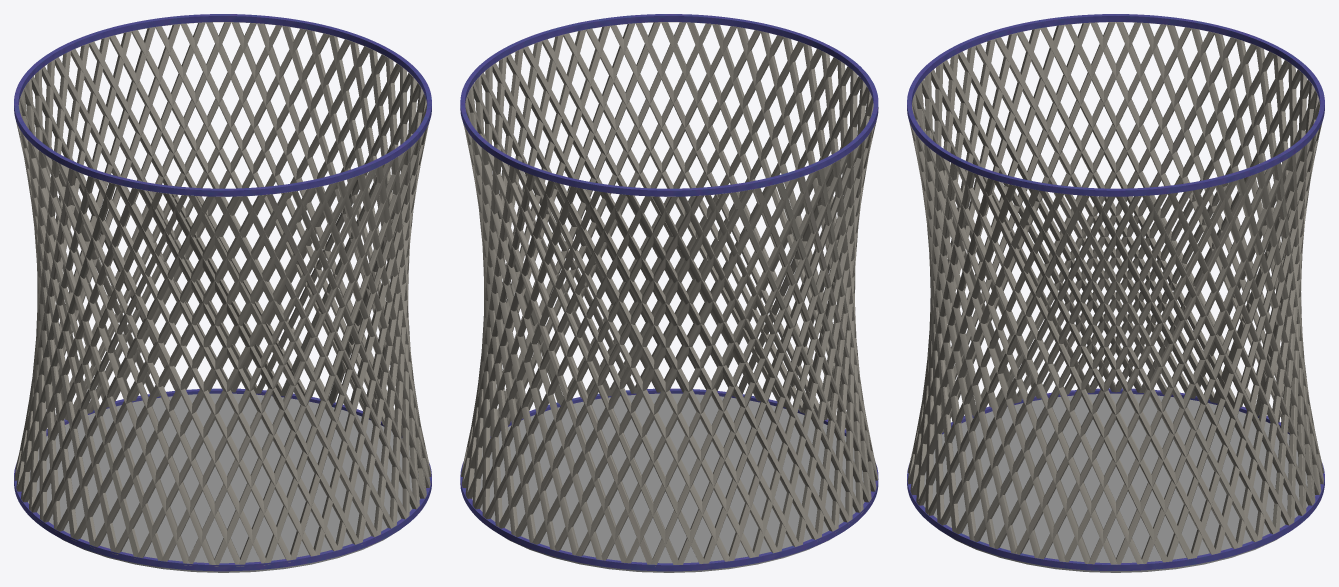
File: Papelera.glb
The picture shows the model from 3 angles, left to right: view 1: azimuth 30°, elevation 25°; view 2: azimuth 150°, elevation 25°; view 3: azimuth 270°, elevation 25°; orthographic projection.
Parts seen in each view (by area): view 1: 93323787-2a3b-4015-9e74-38e87c564cbd, 8ff3d459-bd84-45ed-bf8f-20fcd9354fba, 2a21536a-a5de-4d39-9591-e609daefb486; view 2: 93323787-2a3b-4015-9e74-38e87c564cbd, 8ff3d459-bd84-45ed-bf8f-20fcd9354fba, 2a21536a-a5de-4d39-9591-e609daefb486; view 3: 93323787-2a3b-4015-9e74-38e87c564cbd, 8ff3d459-bd84-45ed-bf8f-20fcd9354fba, 2a21536a-a5de-4d39-9591-e609daefb486.
Boxes of the visible parts, left/top/right/bottom form: 93323787-2a3b-4015-9e74-38e87c564cbd: left=14, top=22, right=431, bottom=566; 8ff3d459-bd84-45ed-bf8f-20fcd9354fba: left=28, top=393, right=420, bottom=572; 2a21536a-a5de-4d39-9591-e609daefb486: left=14, top=14, right=431, bottom=571; 93323787-2a3b-4015-9e74-38e87c564cbd: left=461, top=22, right=878, bottom=566; 8ff3d459-bd84-45ed-bf8f-20fcd9354fba: left=472, top=393, right=864, bottom=572; 2a21536a-a5de-4d39-9591-e609daefb486: left=460, top=14, right=878, bottom=571; 93323787-2a3b-4015-9e74-38e87c564cbd: left=907, top=22, right=1323, bottom=564; 8ff3d459-bd84-45ed-bf8f-20fcd9354fba: left=923, top=393, right=1315, bottom=572; 2a21536a-a5de-4d39-9591-e609daefb486: left=907, top=14, right=1324, bottom=570.
Size of the model in its own units: 0.3484 by 0.3533 by 0.3484.
Materials: 3 (1 with a texture image).
